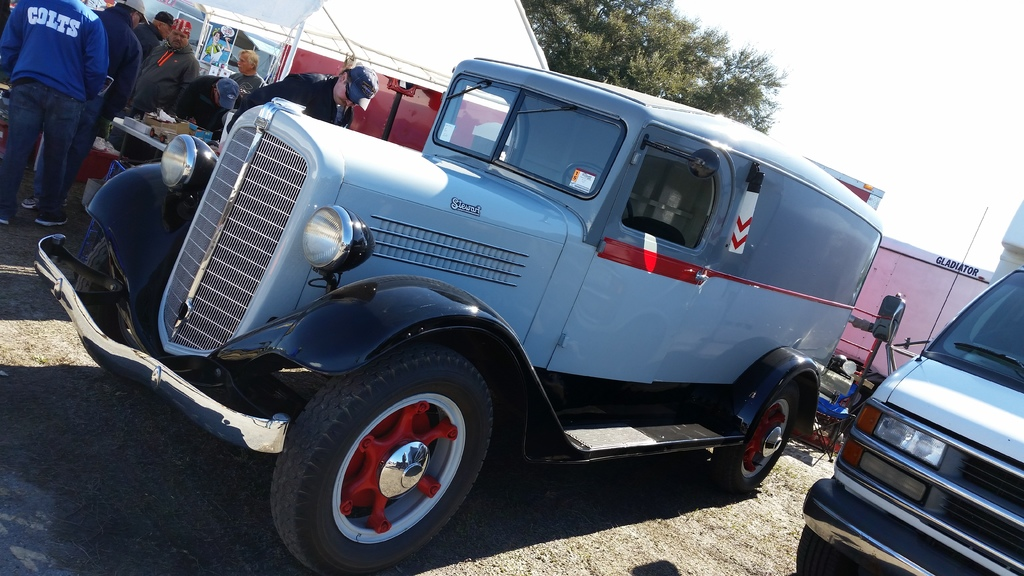Car: (44, 35, 943, 561), (803, 265, 1023, 575)
